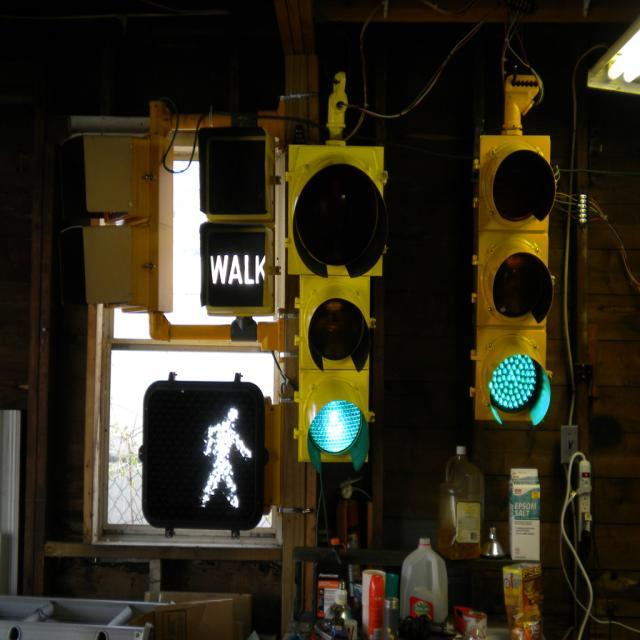traffic light: (294, 124, 377, 459), (479, 114, 554, 425)
